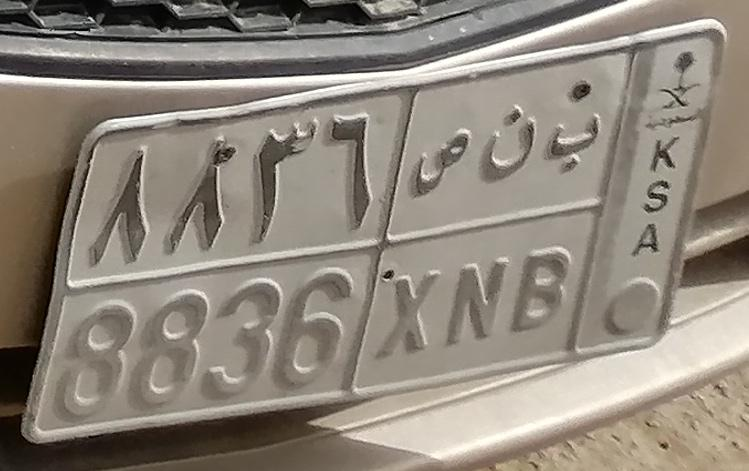8: (62, 144, 151, 416)
B: (517, 111, 603, 330)
